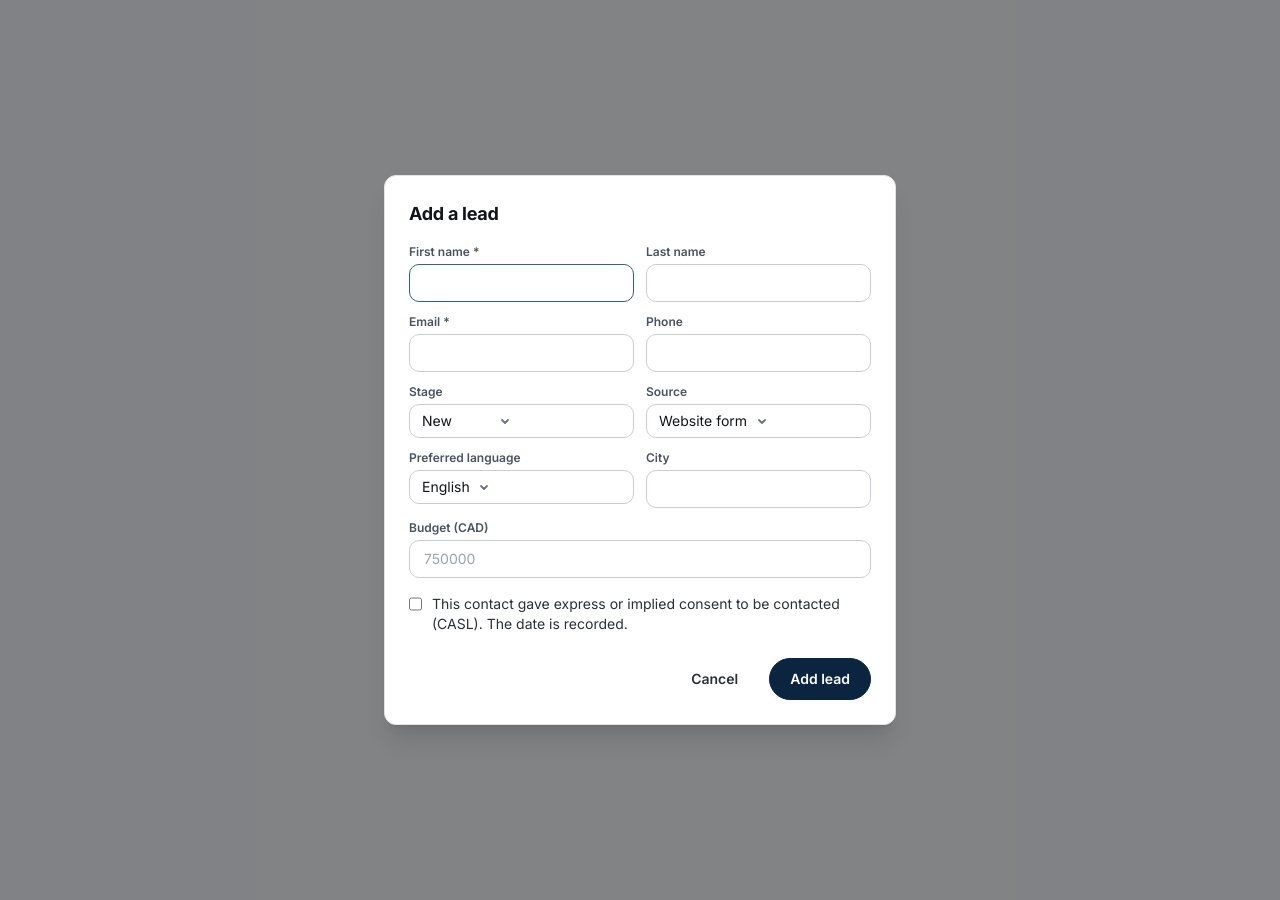
AddLeadDialog validation › shows a required-field error when first name is empty
The width and height of the screenshot is (1280, 900).
Click the button "Add lead" at (820, 679), box [769,658,871,700]
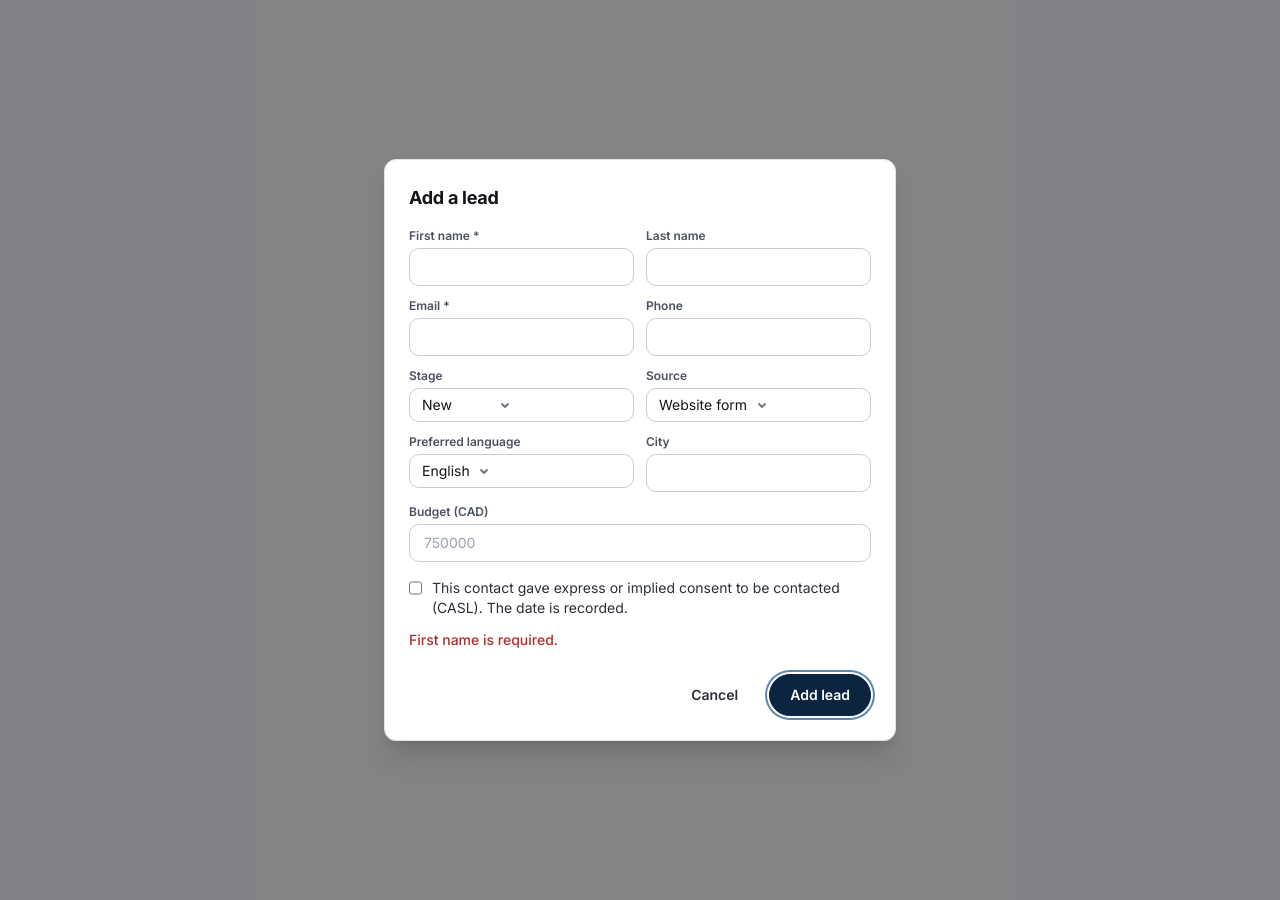
Now the message shows "First name is required", box [409,631,558,648]
